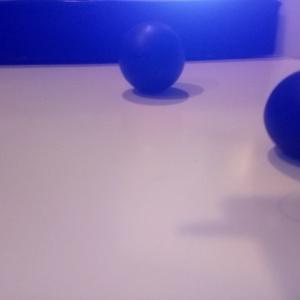dead_ball: (117, 21, 186, 93), (263, 70, 300, 163)
